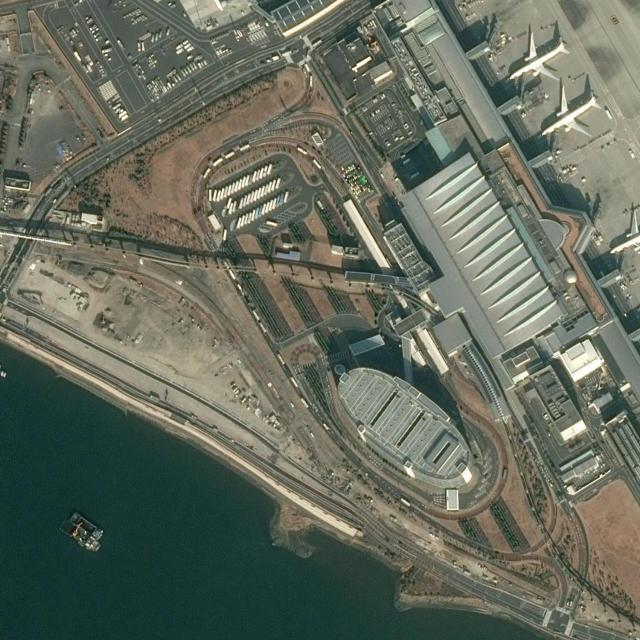Aircraft: (540, 85, 603, 141), (506, 27, 566, 83), (606, 208, 640, 260)
